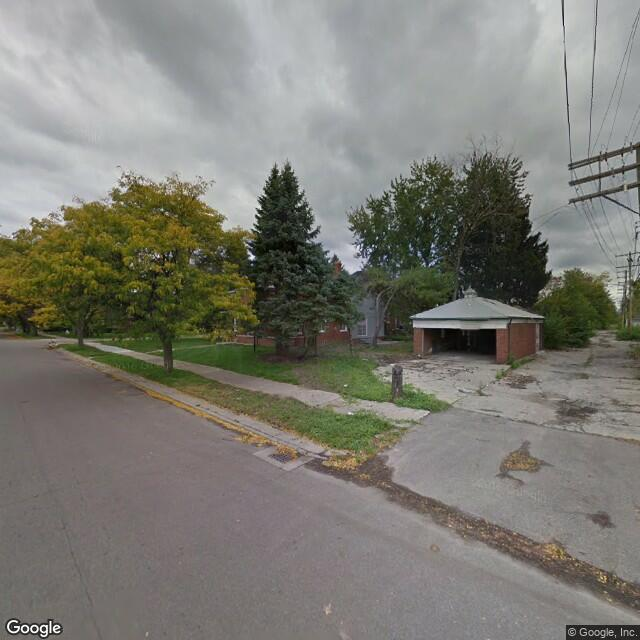litter: (345, 410, 354, 419), (343, 383, 348, 388)
